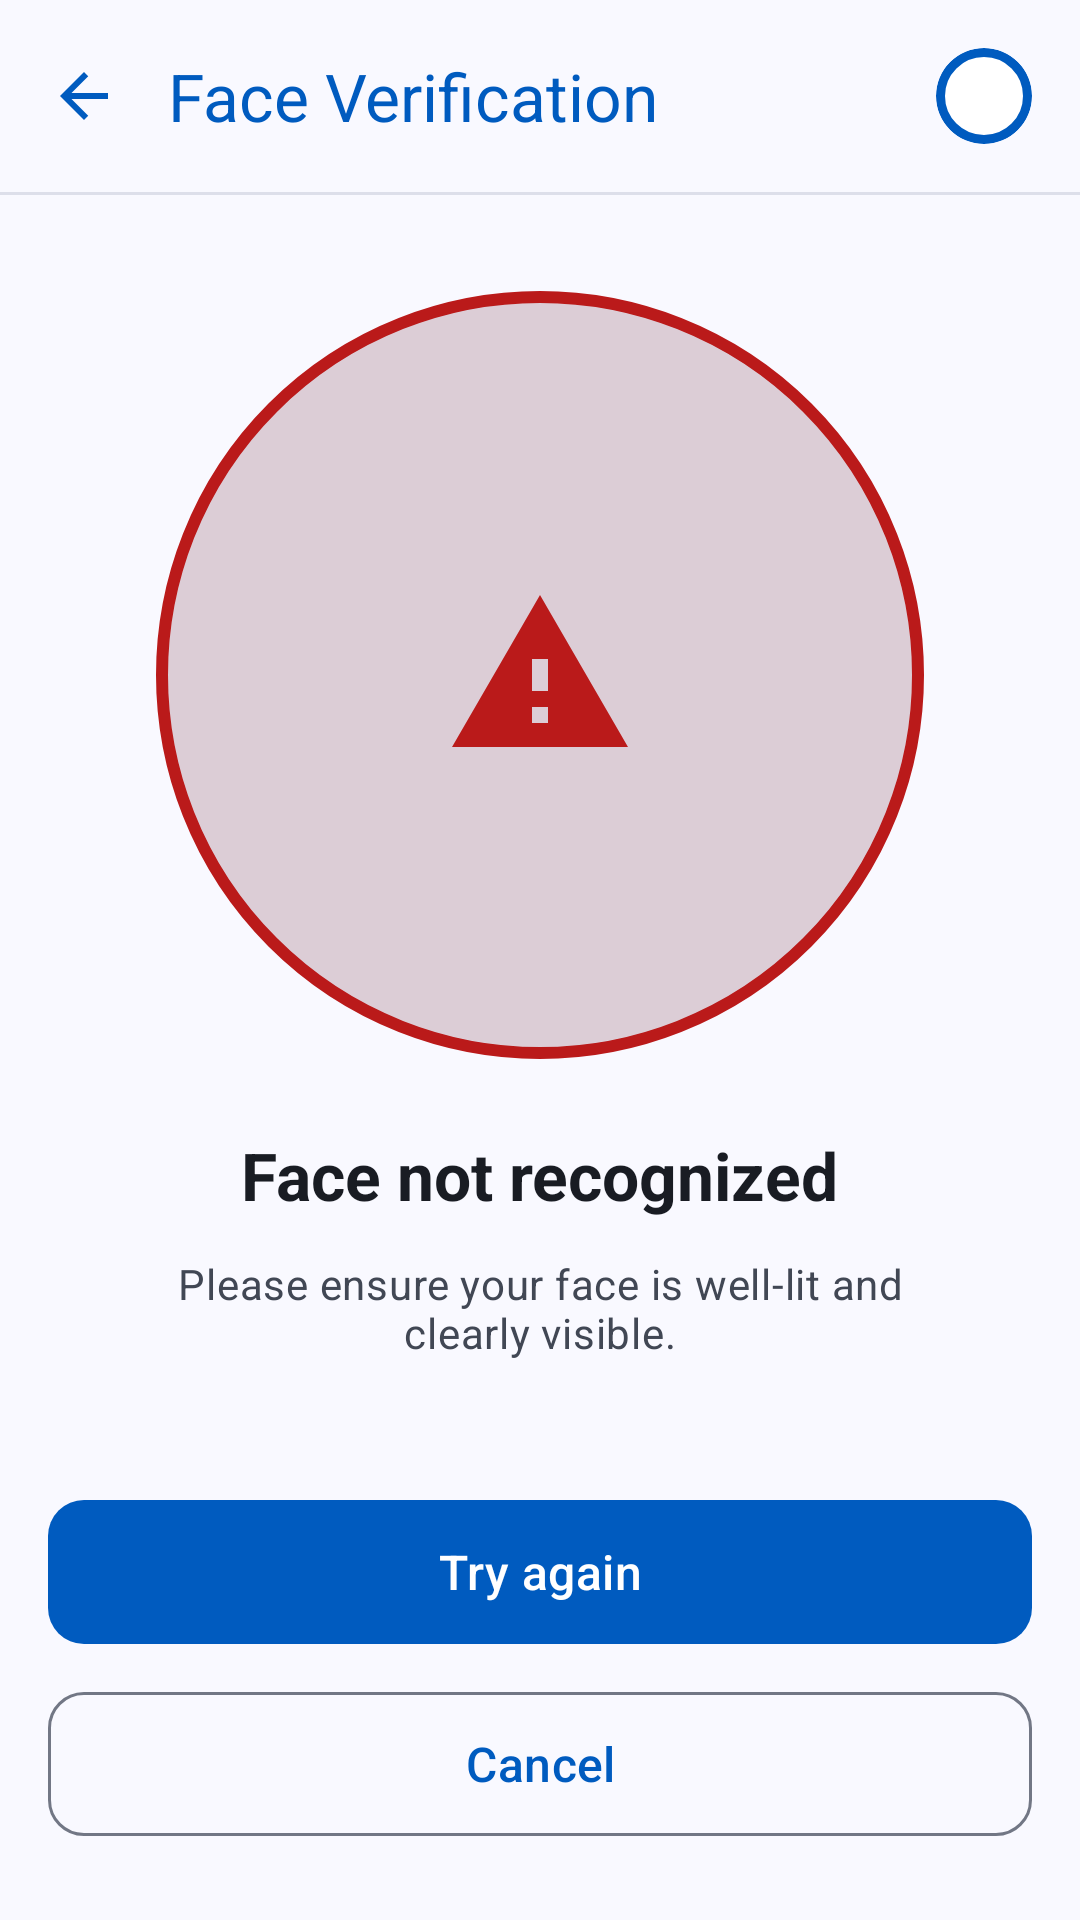

Screen size 1080 × 1920. Icon name, then its center in pixels as (x,y):
warning: (540,671)
